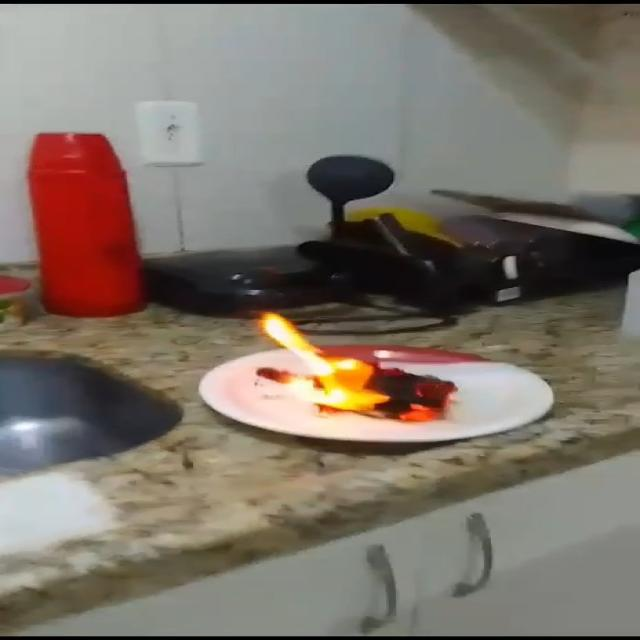fogo-ypXI: (257, 310, 461, 424)
